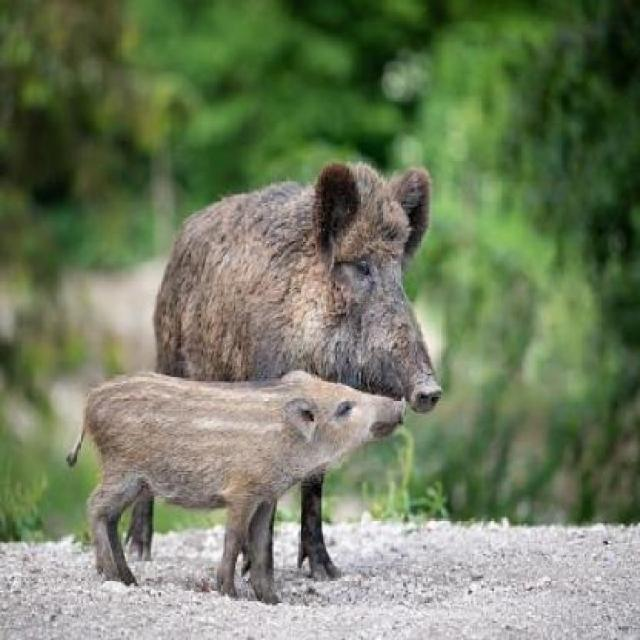wildboar: (114, 148, 460, 569), (61, 361, 412, 613)
